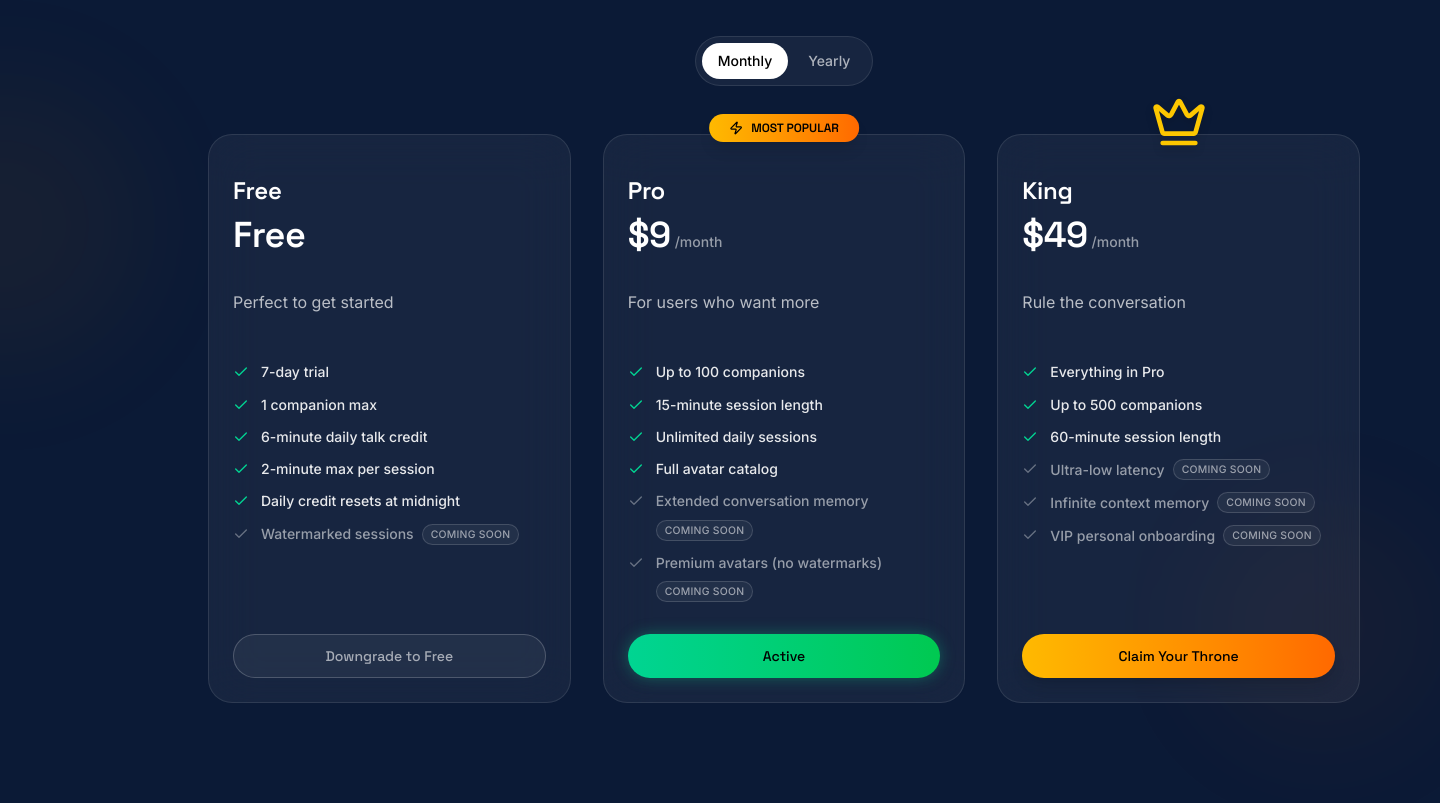
Test: PricingPage › asks a paid account to confirm before downgrading to free
(page scrolled)
Click the button "Downgrade to Free" at (389, 656), box [233, 634, 546, 678]
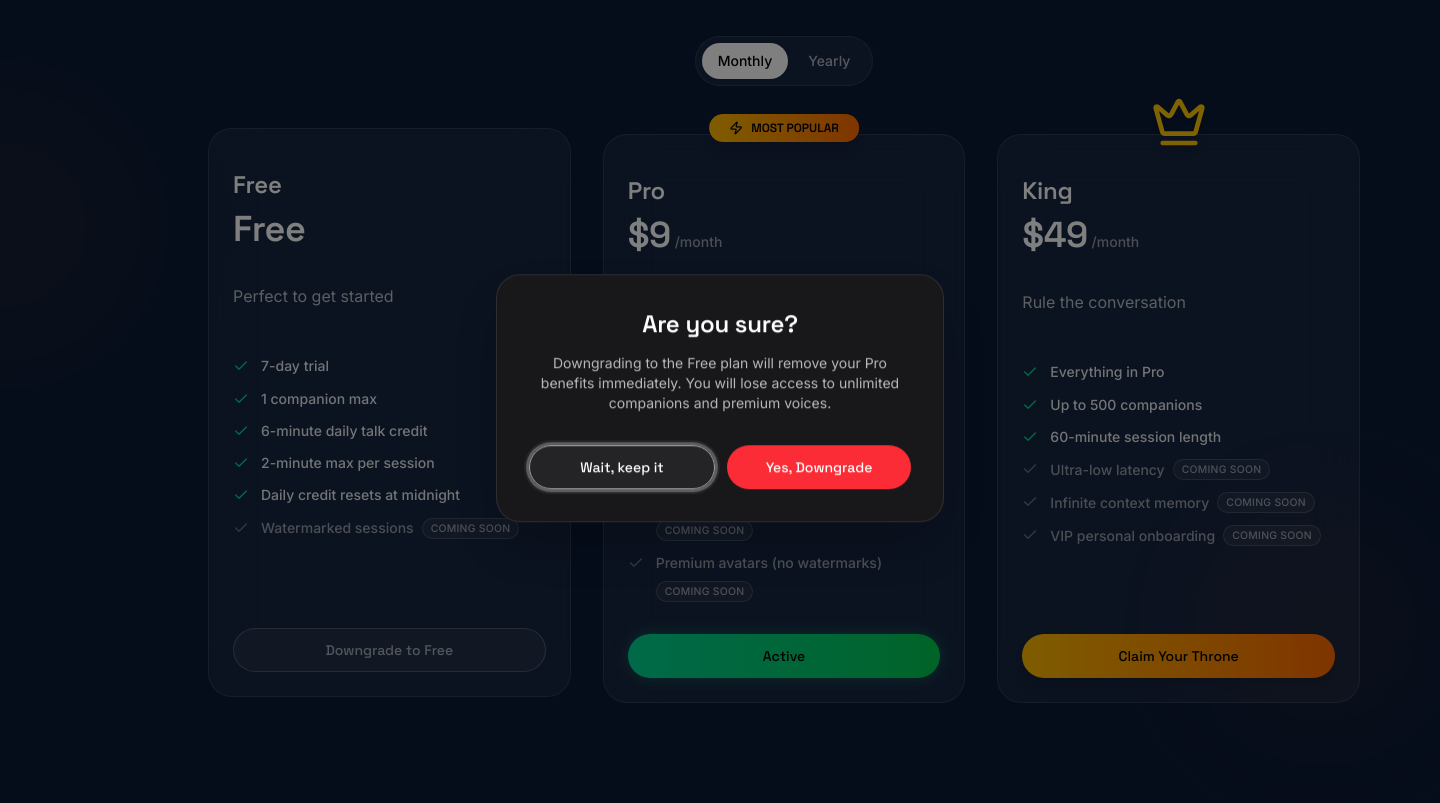
Expected: the heading "Are you sure?" is shown, [642, 307, 798, 341]
